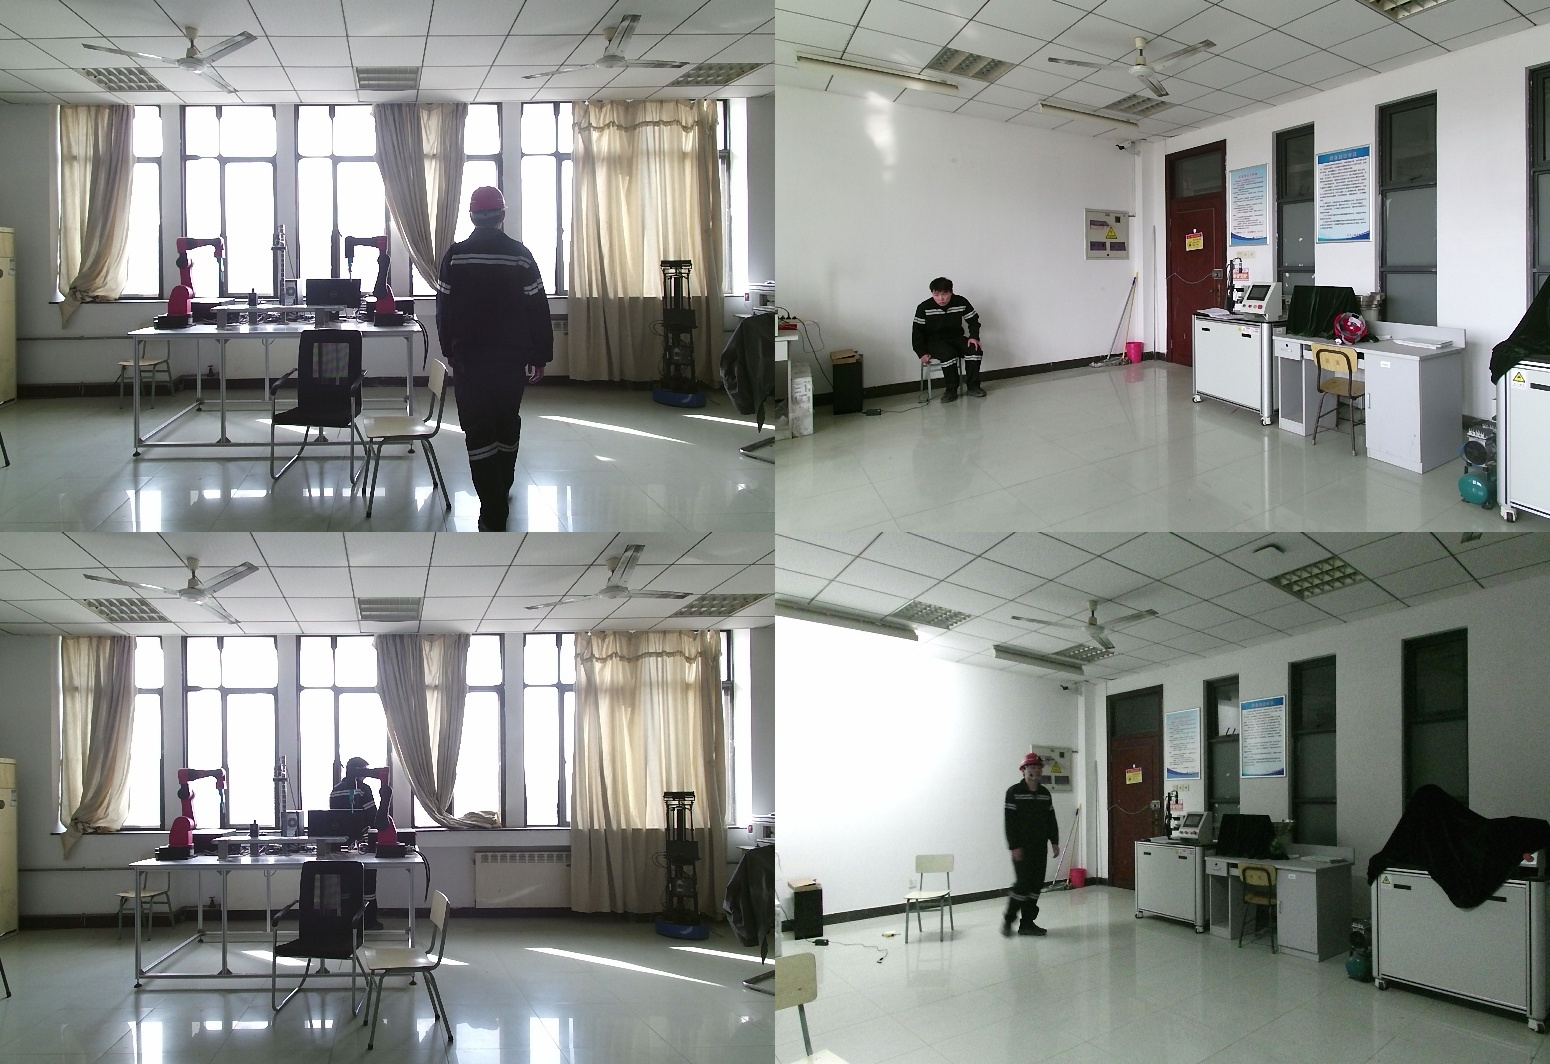person: (438, 185, 559, 532), (989, 757, 1056, 949), (332, 758, 392, 935), (909, 278, 989, 403)
